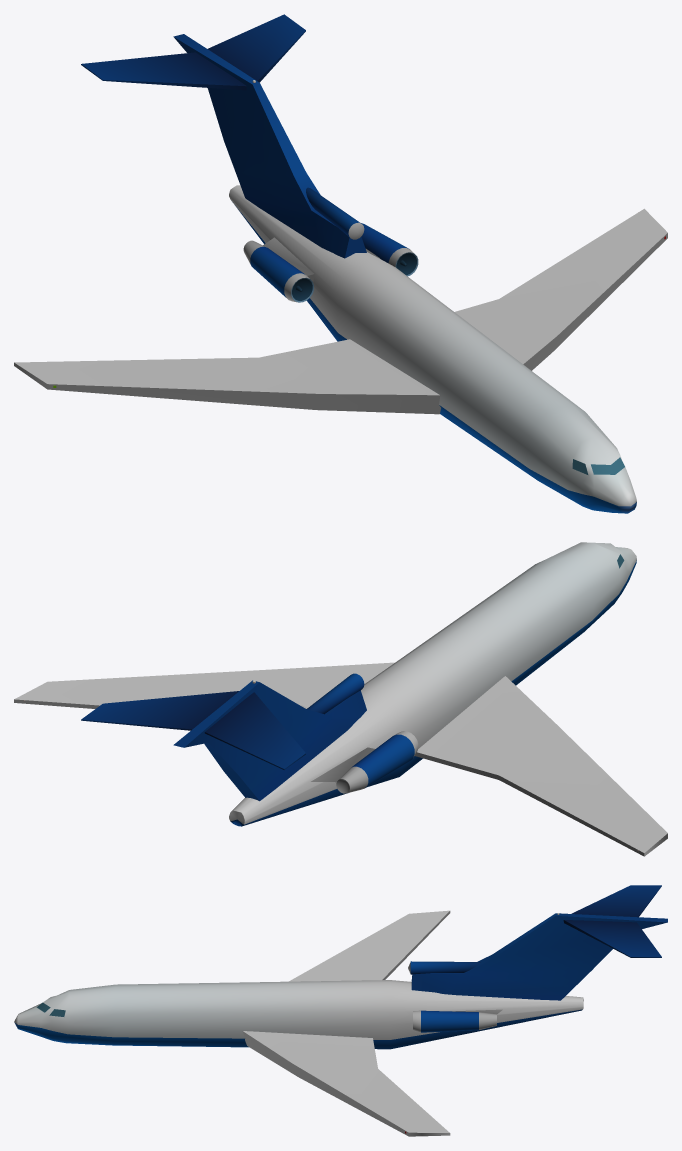
The model's file is vehicles-aircraft-private-jet_v1.glb.
3 renders of one model, top to bottom at view 1: azimuth 30°, elevation 25°; view 2: azimuth 150°, elevation 25°; view 3: azimuth 270°, elevation 25°, orthographic. The views are drawn at different scales.
Parts seen in each view (by area): view 1: Private Jet.001; view 2: Private Jet.001; view 3: Private Jet.001.
Boxes of the visible parts, x1,y1,x2,y2 form: Private Jet.001: (14,14,667,513); Private Jet.001: (14,542,667,856); Private Jet.001: (14,885,667,1136).
Size of the model in its own units: 24.15 by 6.54 by 30.
